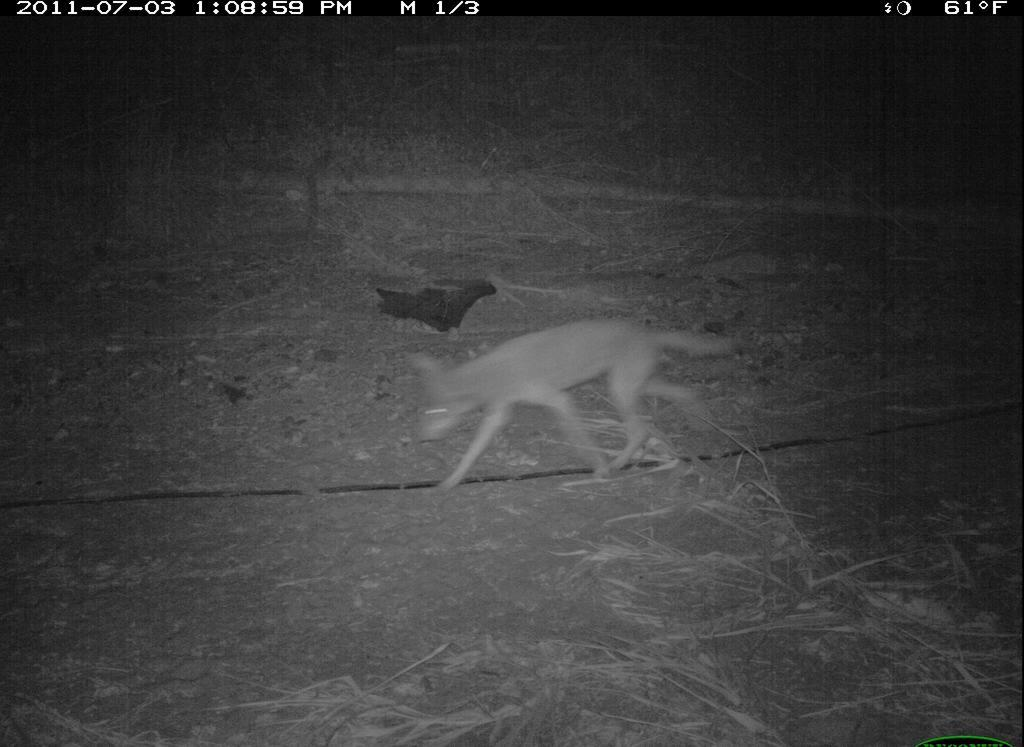coyote: (383, 312, 749, 507)
